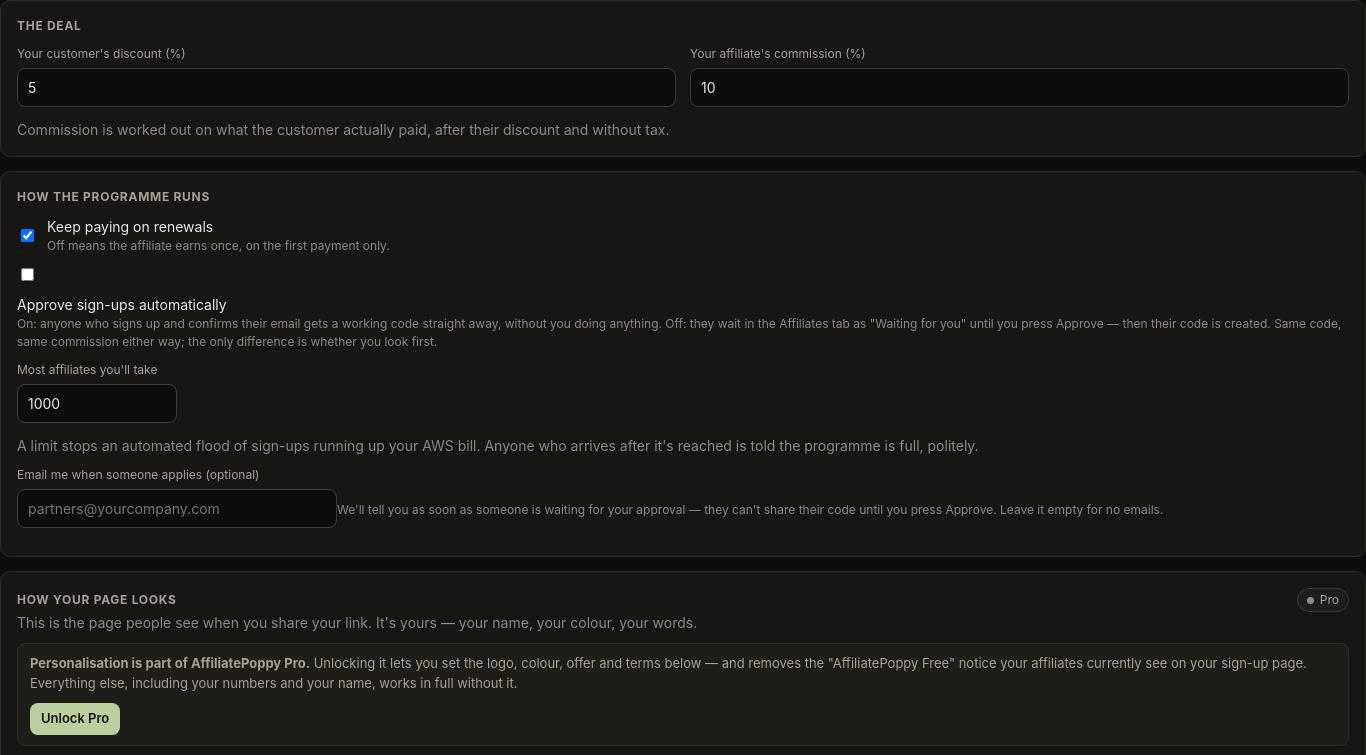
Test case: the D19c lock on personalisation › says plainly when the payment didn't complete — and persists nothing
This screenshot has width=1366, height=755.
Click the button "Unlock Pro". click: (75,719)
box: [30,703,120,734]
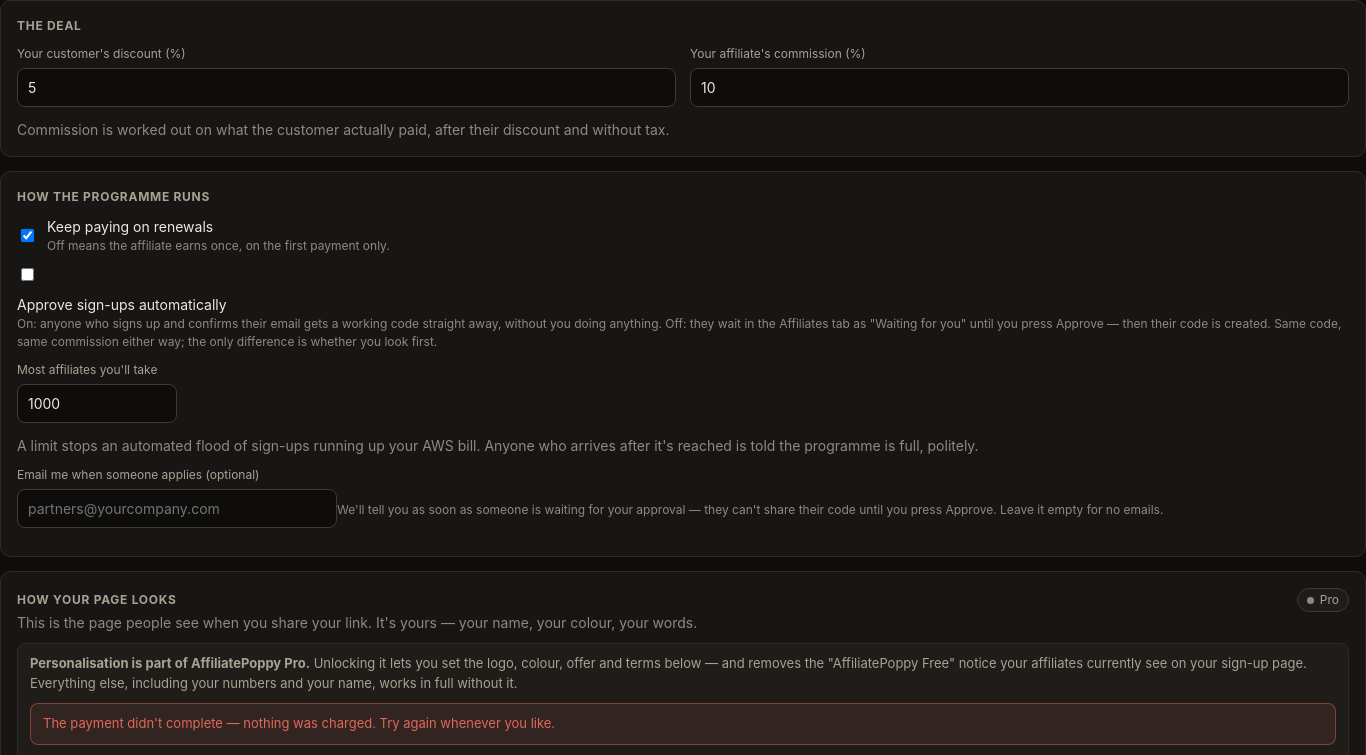
Expected: the text "didn't complete — nothing was charged" is shown, [43,715,555,731]
